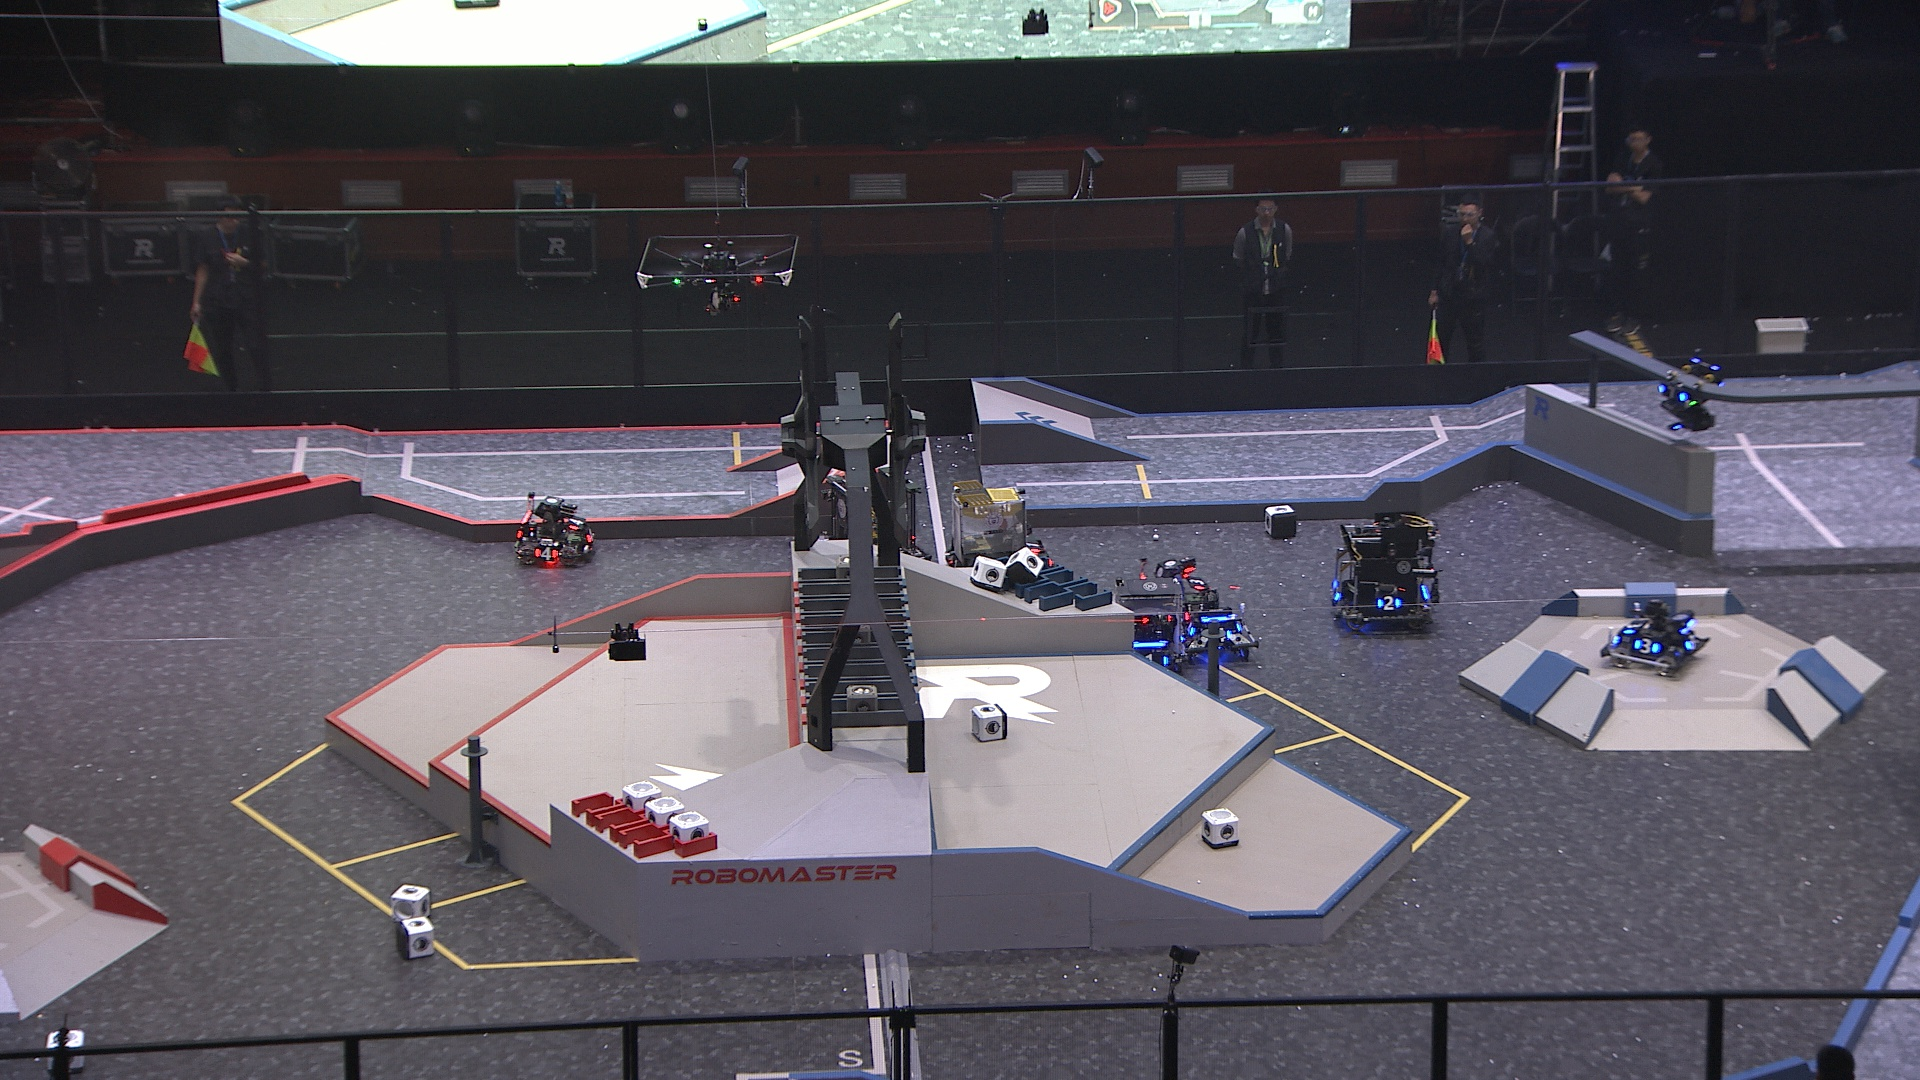armor: (1655, 384, 1689, 404), (1633, 637, 1660, 655), (531, 546, 556, 564), (1375, 593, 1400, 611), (1683, 633, 1702, 654), (1141, 651, 1168, 666), (1623, 616, 1642, 636), (1185, 575, 1204, 593), (1026, 537, 1043, 556), (568, 512, 585, 527), (584, 524, 596, 545), (1332, 582, 1342, 604), (1185, 618, 1196, 638)
car: (1327, 506, 1447, 638), (822, 462, 939, 593), (942, 481, 1055, 584), (1106, 570, 1189, 676), (1602, 597, 1709, 678), (513, 495, 600, 568), (1179, 589, 1257, 661), (1145, 553, 1221, 613)
watcher: (1652, 357, 1724, 433)
